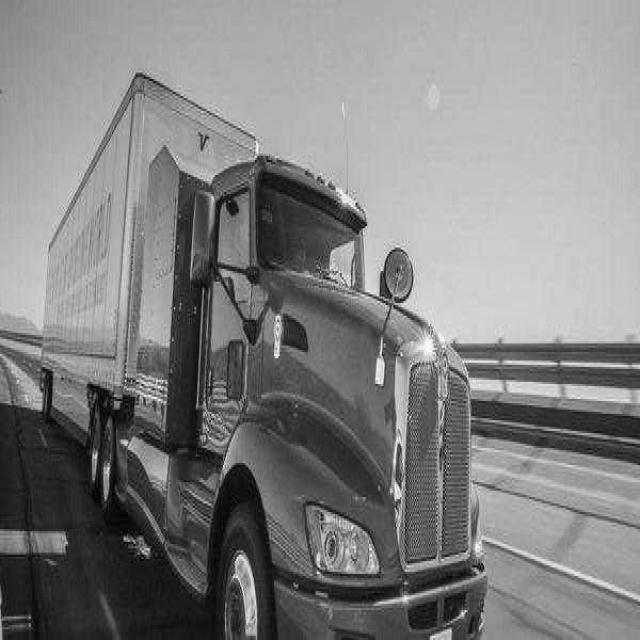Truck: (40, 75, 488, 637)
